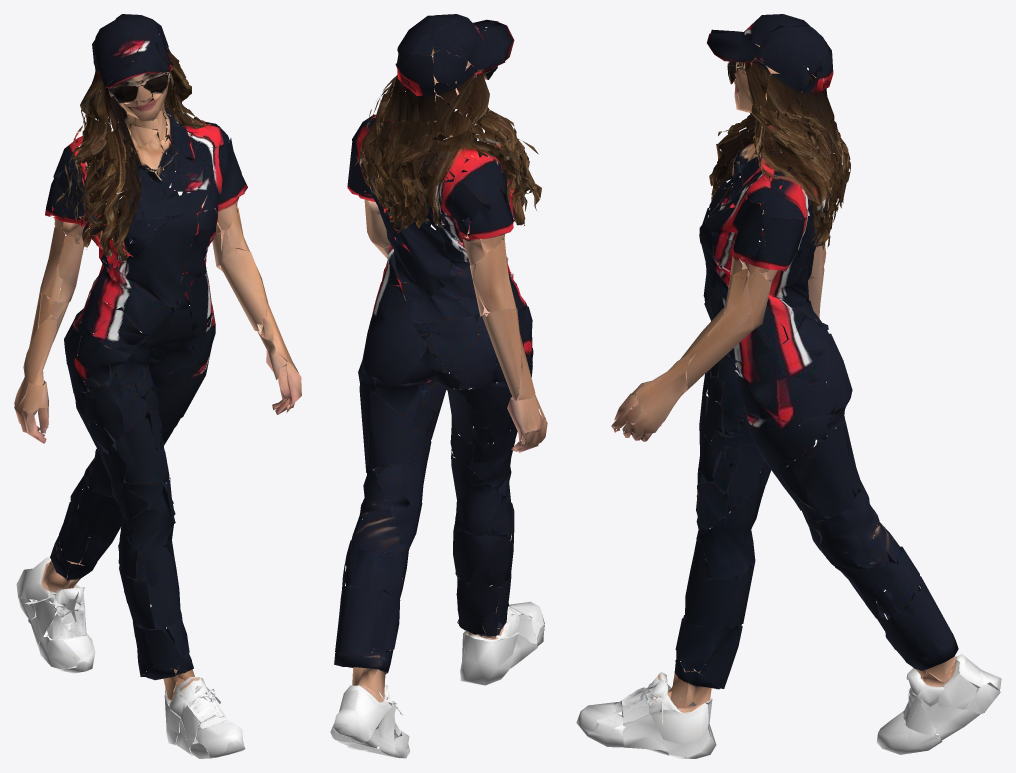
Rendered from extra-woman-2.glb.
3 views of the same model, side by side, from view 1: azimuth 30°, elevation 25°; view 2: azimuth 150°, elevation 25°; view 3: azimuth 270°, elevation 25° (orthographic). The views are drawn at different scales.
Visible parts, largest first — view 1: Mesh_0; view 2: Mesh_0; view 3: Mesh_0.
Part boxes in pixels (x1,y1,x2,y2): Mesh_0: [14, 14, 301, 758]; Mesh_0: [330, 14, 547, 758]; Mesh_0: [576, 14, 1001, 758].
Bounding box in the file's own units: 0.6036 × 1.9 × 1.01.
Materials: 1 (1 with a texture image).
